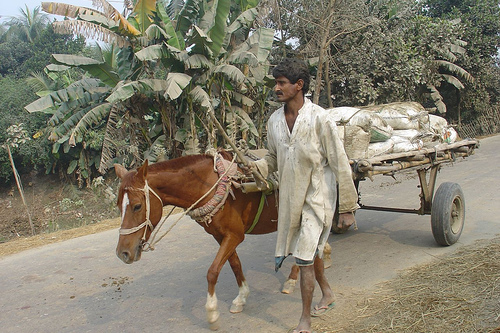horse: (112, 148, 333, 325)
